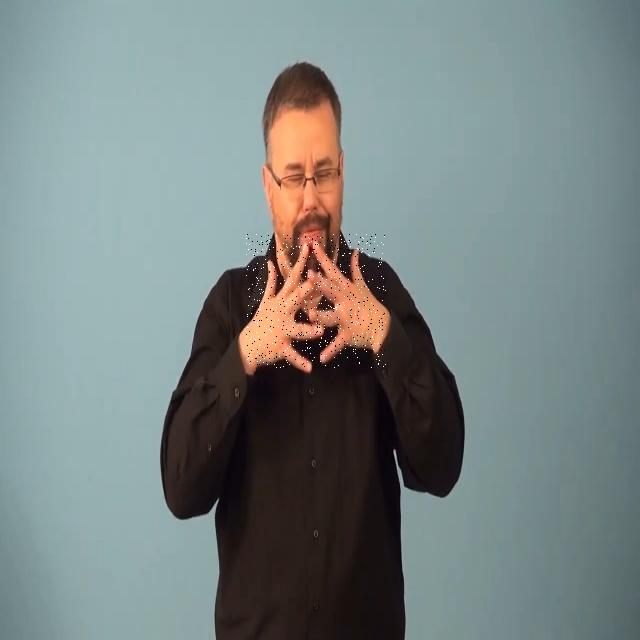juicy: (246, 234, 386, 368)
